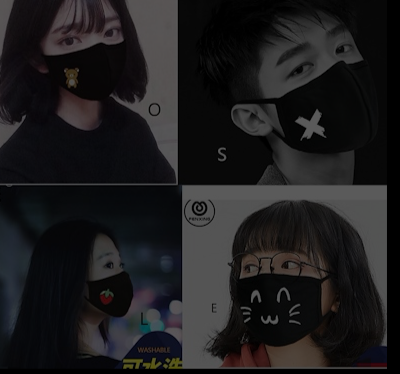with_mask: (258, 20, 372, 152), (232, 245, 335, 348), (40, 12, 127, 102), (86, 248, 135, 319)
